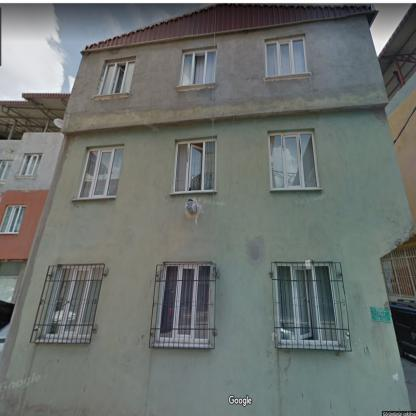window: (275, 263, 340, 344), (157, 263, 210, 342), (43, 266, 101, 338), (268, 132, 319, 190), (173, 138, 216, 192), (78, 146, 122, 198), (265, 36, 308, 76), (180, 49, 216, 85), (100, 61, 134, 94), (0, 206, 26, 233), (20, 155, 41, 174), (0, 161, 12, 180)
